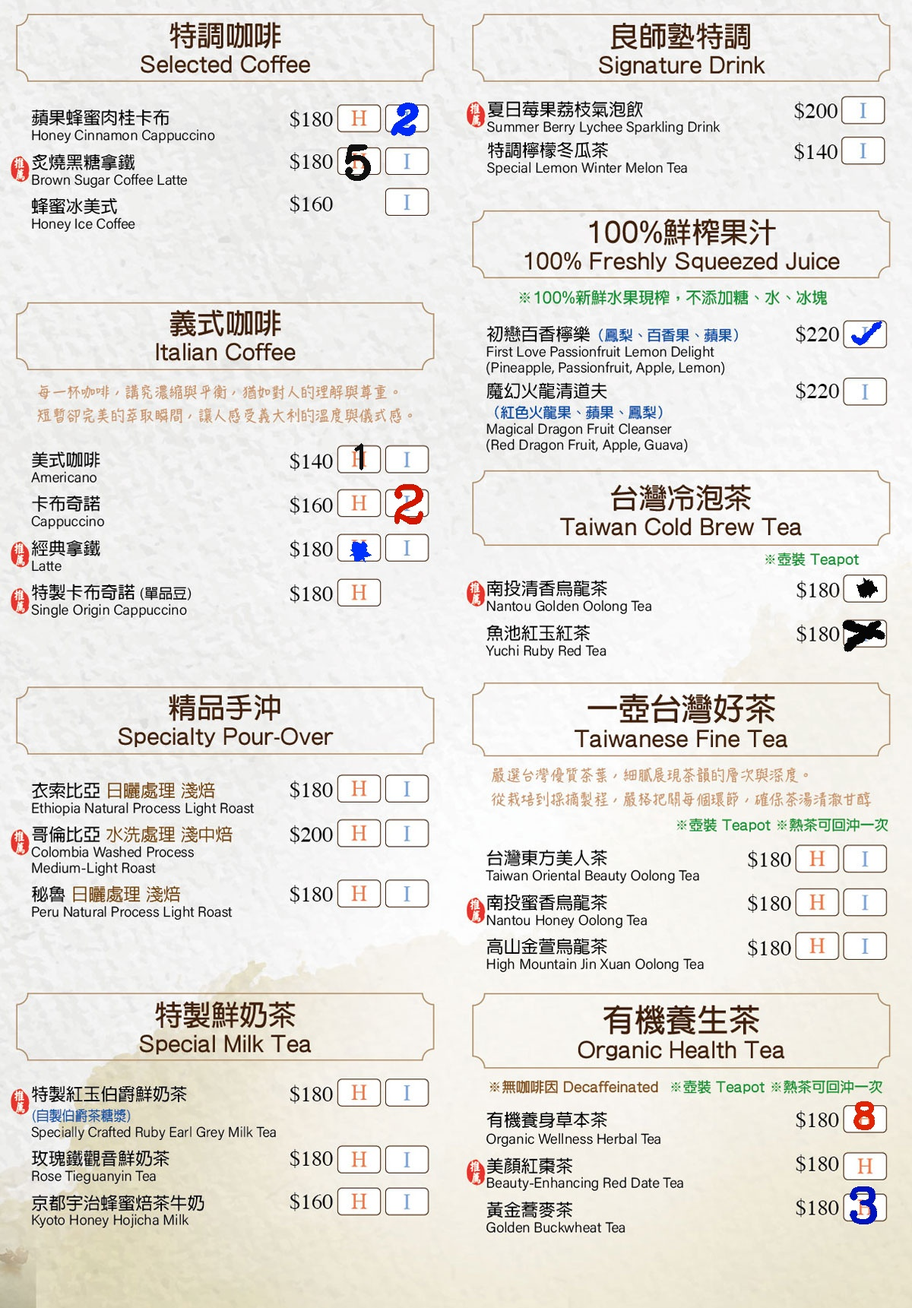marked_circle: (339, 535, 378, 559), (846, 576, 885, 600)
marked_number_1: (340, 447, 378, 470)
marked_number_2: (388, 107, 427, 131), (388, 491, 426, 515)
marked_number_3: (845, 1194, 884, 1218)
marked_number_5: (342, 149, 381, 173)
marked_number_8: (846, 1106, 885, 1129)
marked_tick: (845, 321, 884, 345)
marked_x: (845, 622, 884, 646)
